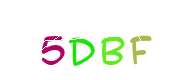5: (12, 0, 92, 80)
B: (58, 0, 138, 80)
D: (55, 0, 135, 80)
F: (82, 0, 162, 80)
